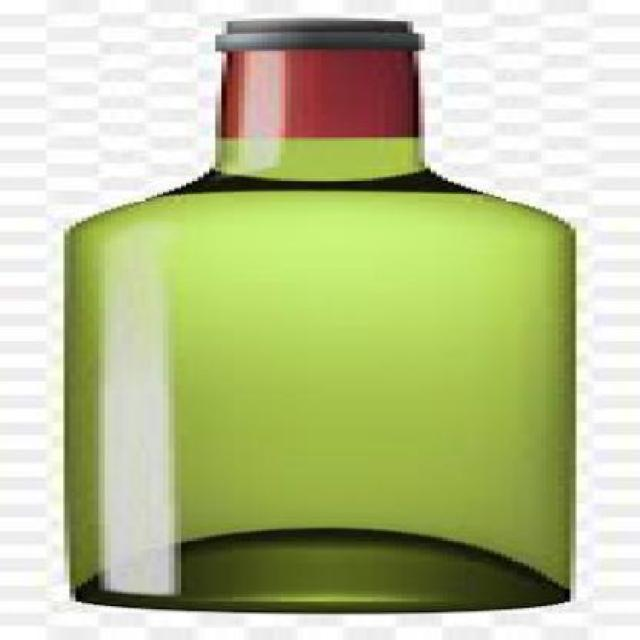kaca: (52, 17, 576, 614)
